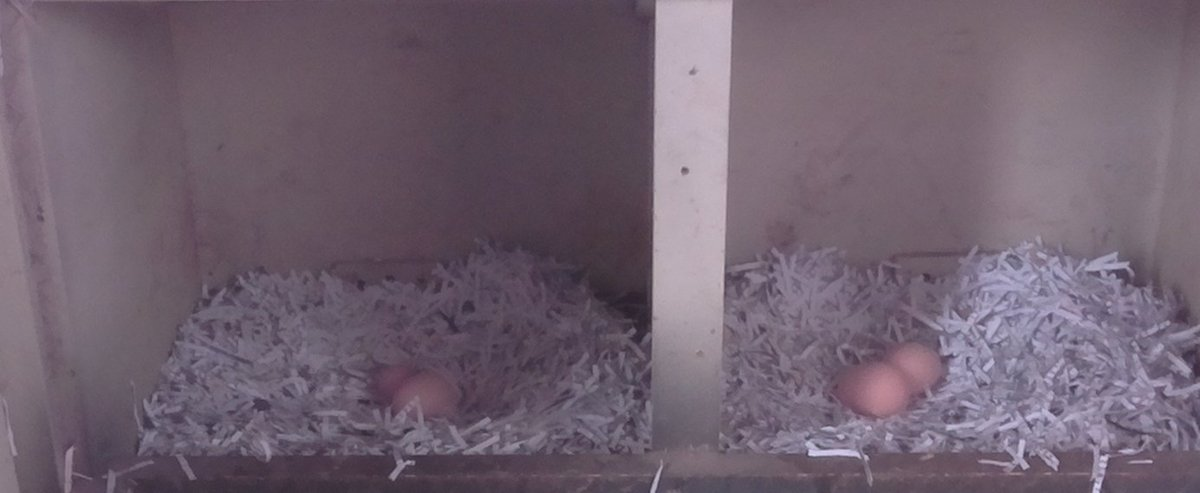egg: (834, 359, 913, 423), (388, 369, 463, 424), (883, 338, 947, 398), (370, 361, 418, 397)
